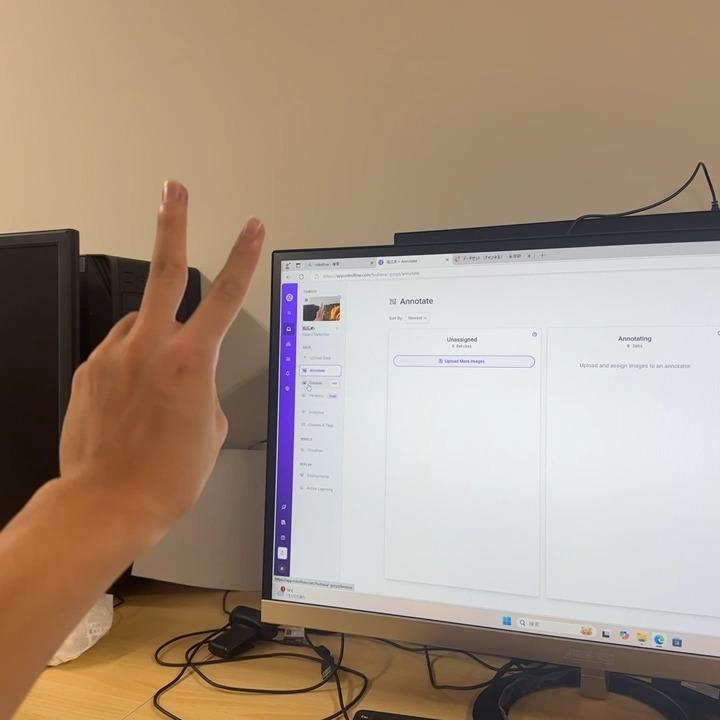without_gloves: (15, 126, 308, 597)
